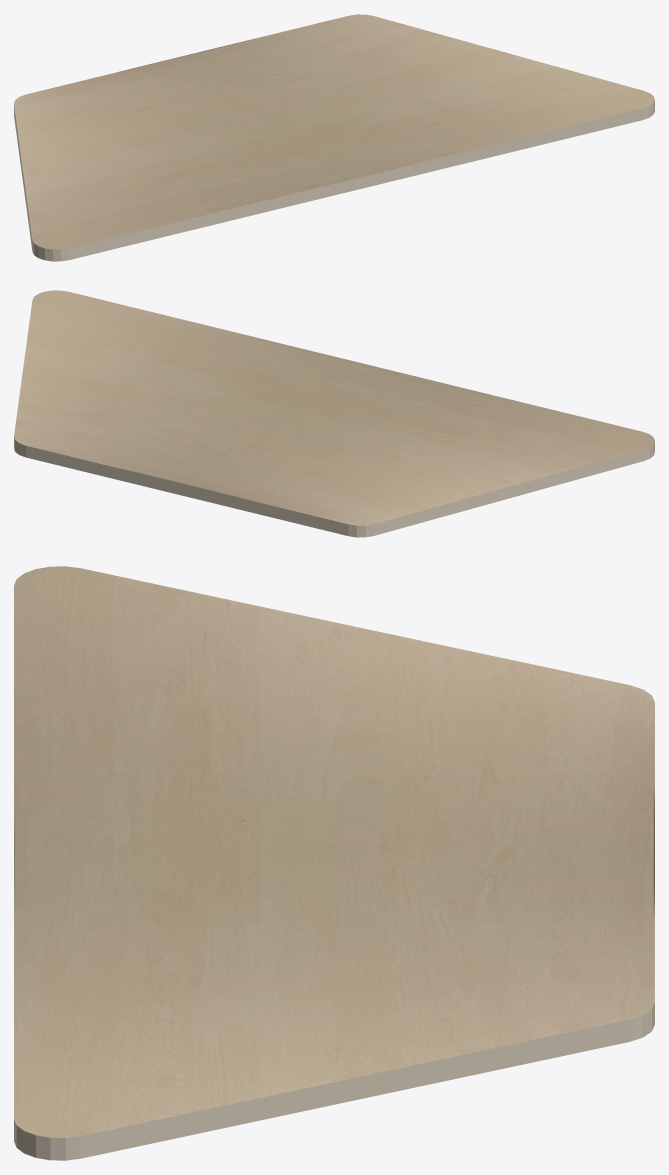
File: desk_top.glb
3 renders of one model, top to bottom at view 1: azimuth 30°, elevation 25°; view 2: azimuth 150°, elevation 25°; view 3: azimuth 270°, elevation 25°, orthographic. The views are drawn at different scales.
Parts seen in each view (by area): view 1: paint_matte_texture_1, paint_matte_0; view 2: paint_matte_texture_1, paint_matte_0; view 3: paint_matte_texture_1, paint_matte_0.
Part boxes in pixels (<box>): paint_matte_texture_1: <box>14,14,654,249</box>; paint_matte_0: <box>14,100,654,261</box>; paint_matte_texture_1: <box>14,290,654,525</box>; paint_matte_0: <box>14,437,654,537</box>; paint_matte_texture_1: <box>14,566,654,1137</box>; paint_matte_0: <box>14,1002,654,1160</box>.
Size of the model in its own units: 1.47 by 0.027 by 0.695.
Materials: 3 (2 with a texture image).
